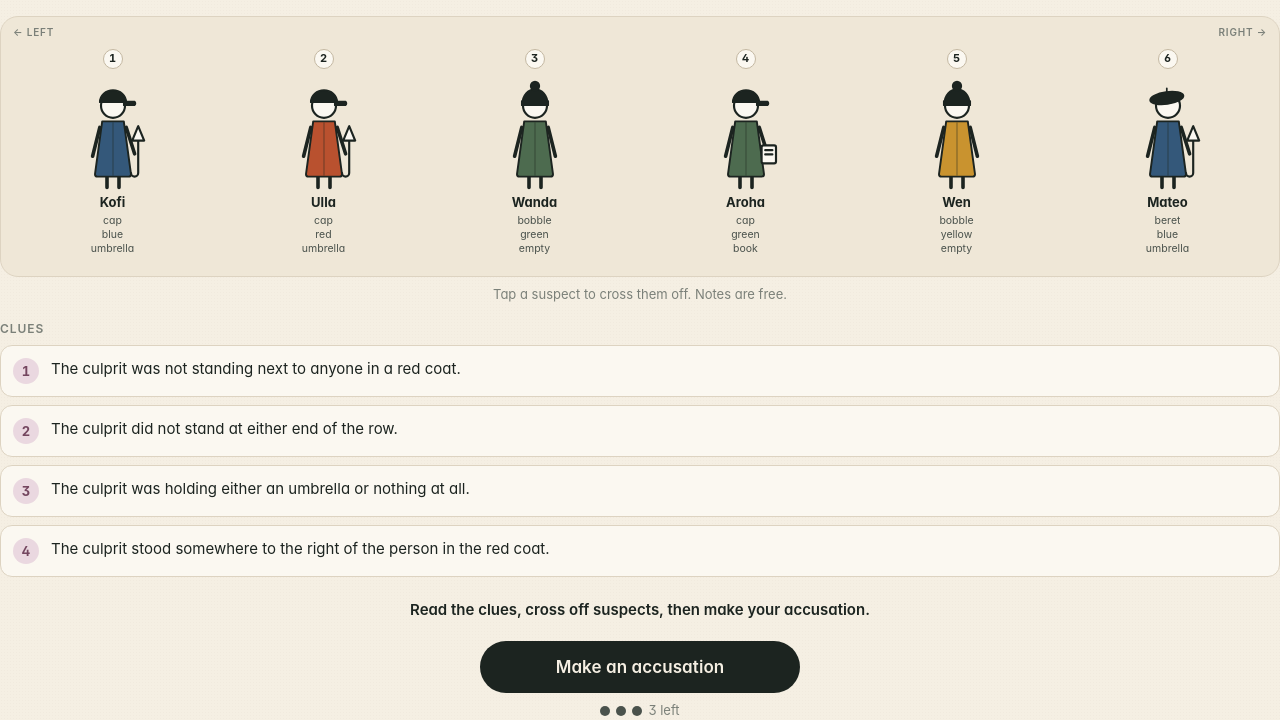
Deduction screen › a wrong accusation names the clue that clears that suspect; the right one wins
(page scrolled)
Click the button "Make an accusation" at point(640, 667), box [480, 641, 800, 693]
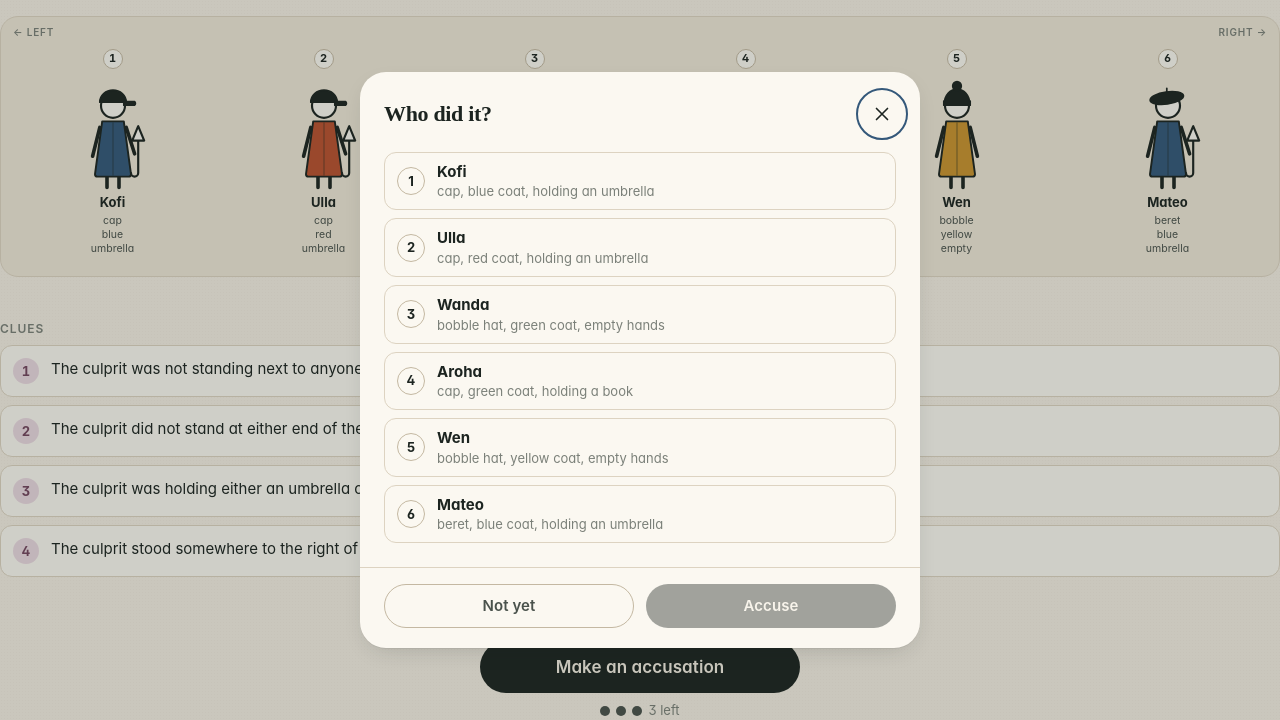
Click the radio button labelled "1 Kofi cap, blue coat, holding an umbrella" at point(640, 181), box [384, 152, 896, 210]
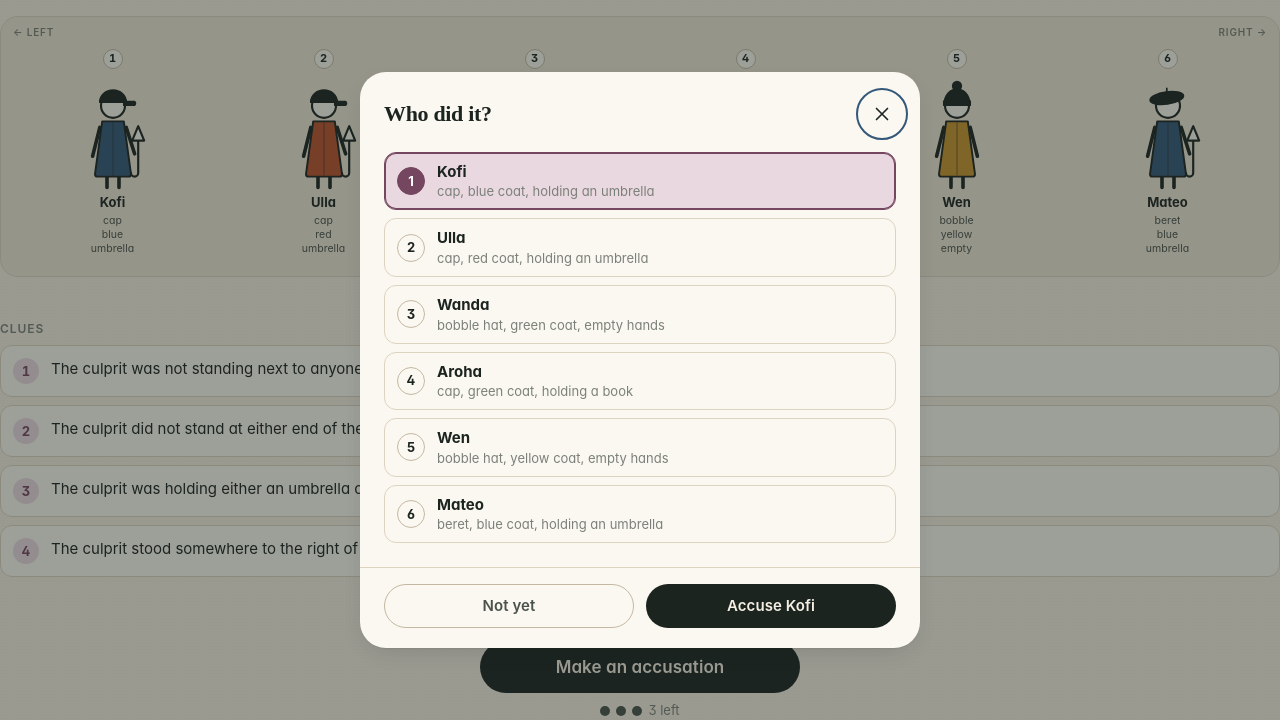
Click the button "Accuse Kofi" at point(771, 606), box [646, 584, 896, 628]
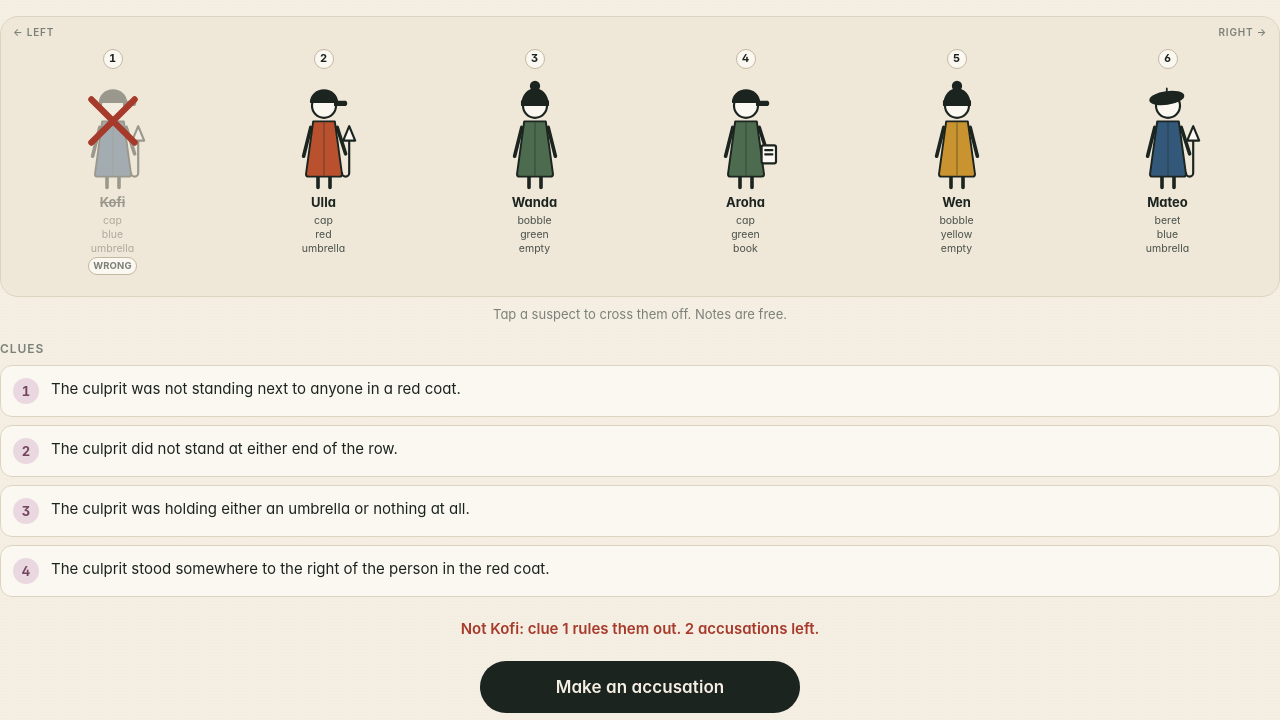
Click the button "Make an accusation" at point(640, 687), box [480, 661, 800, 713]
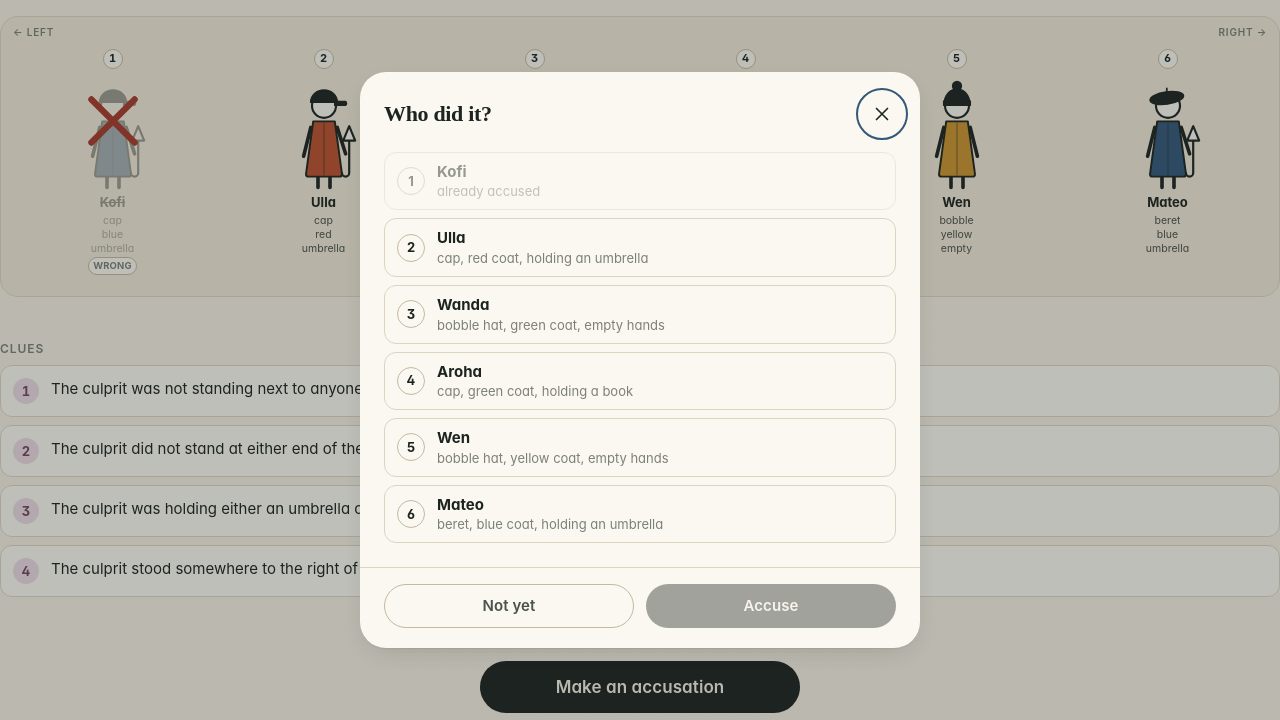
Click the radio button labelled "5 Wen bobble hat, yellow coat, empty hands" at point(640, 447), box [384, 418, 896, 477]
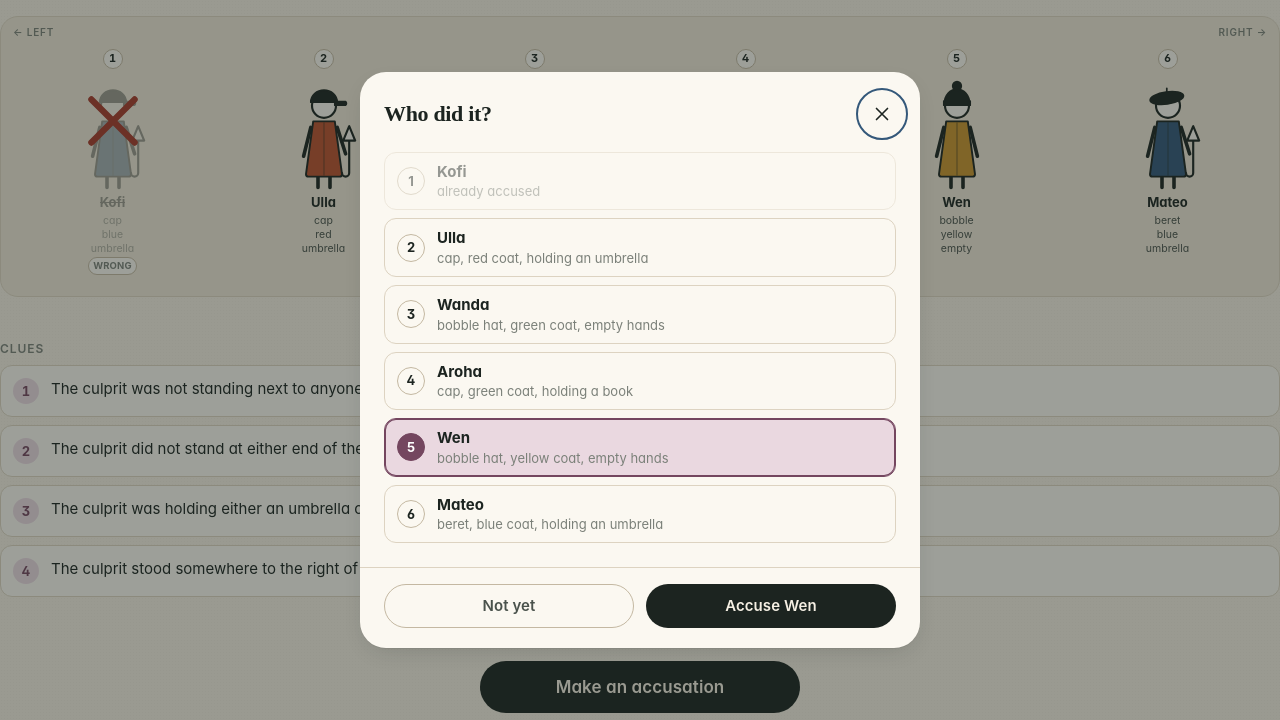
Click the button "Accuse Wen" at point(771, 606), box [646, 584, 896, 628]
(page scrolled)
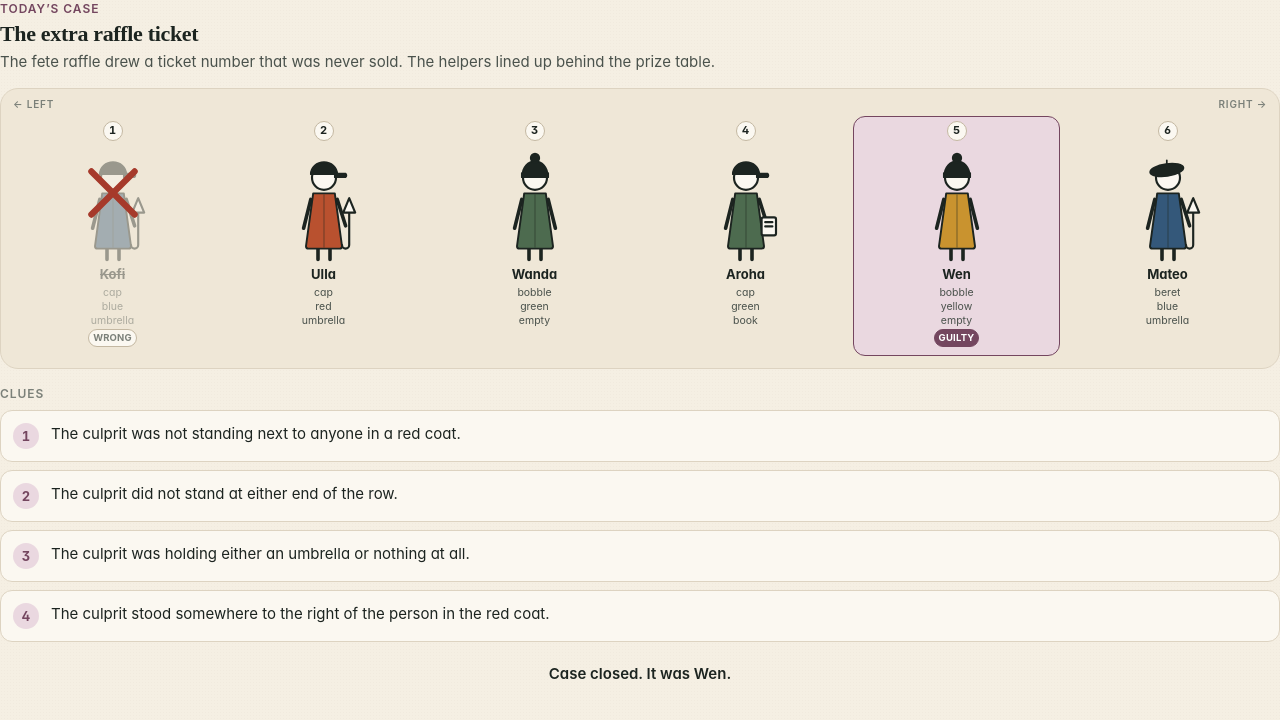
Now the button "Make an accusation" is gone
